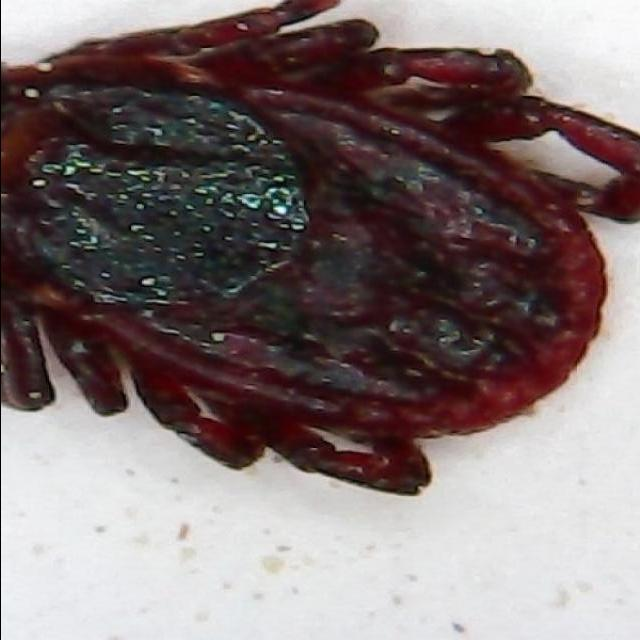Rhipicephalus Sanguineus-F: (0, 7, 640, 497)
